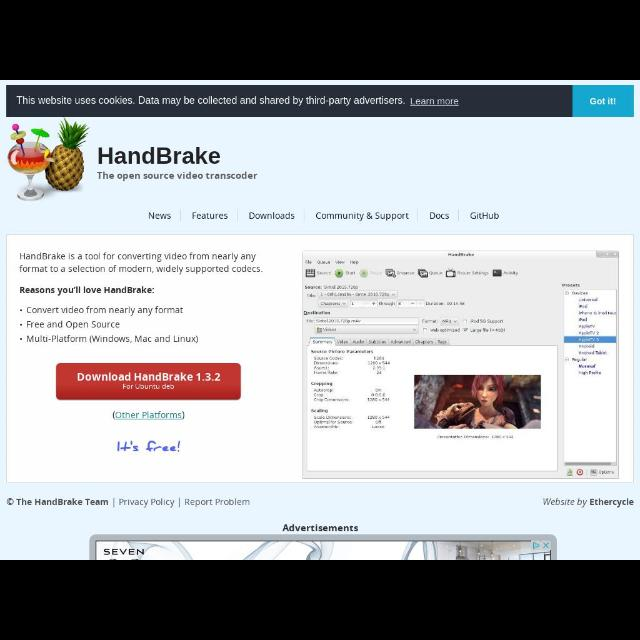icon: (6, 499, 14, 505), (18, 322, 24, 328), (20, 337, 22, 341), (20, 309, 22, 313)
iframe: (97, 542, 551, 558)
image: (303, 251, 619, 479), (6, 123, 88, 201), (112, 437, 184, 455)
link: (115, 412, 181, 422)
multitab: (144, 208, 506, 228)
text: (19, 252, 263, 276), (18, 94, 406, 106), (77, 372, 223, 392), (27, 333, 199, 347), (96, 146, 222, 164), (98, 171, 258, 181), (20, 286, 156, 296), (26, 307, 186, 315), (314, 212, 410, 222), (540, 498, 636, 508), (17, 498, 108, 508), (280, 524, 360, 534), (26, 320, 122, 328), (185, 500, 251, 510), (409, 96, 459, 108), (120, 497, 174, 507), (249, 211, 295, 221), (191, 210, 229, 222), (470, 212, 500, 220), (587, 98, 617, 105), (430, 213, 450, 223), (148, 212, 172, 220)
textbutton: (572, 86, 634, 118)
